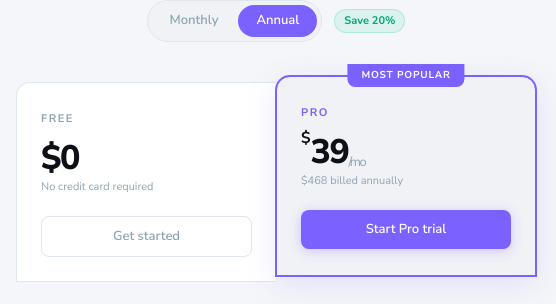
BillingToggle › switches back to annual when Annual is clicked
Click the button "Monthly" at [194, 21], box [152, 5, 236, 36]
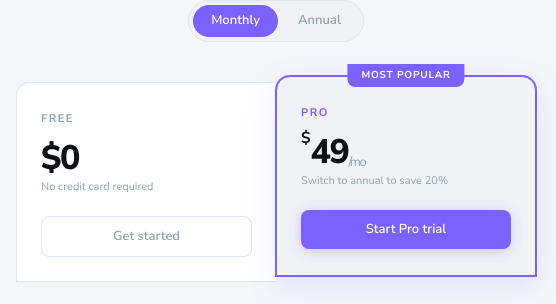
Click the button "Annual" at [319, 21], box [280, 5, 359, 36]
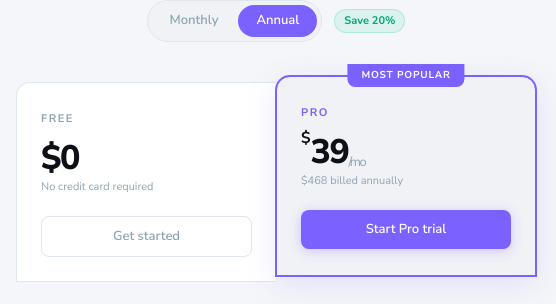
expect the text "Save 20%" is shown: met, box [334, 8, 405, 33]
expect the text "39" is shown: met, box [311, 129, 348, 175]
